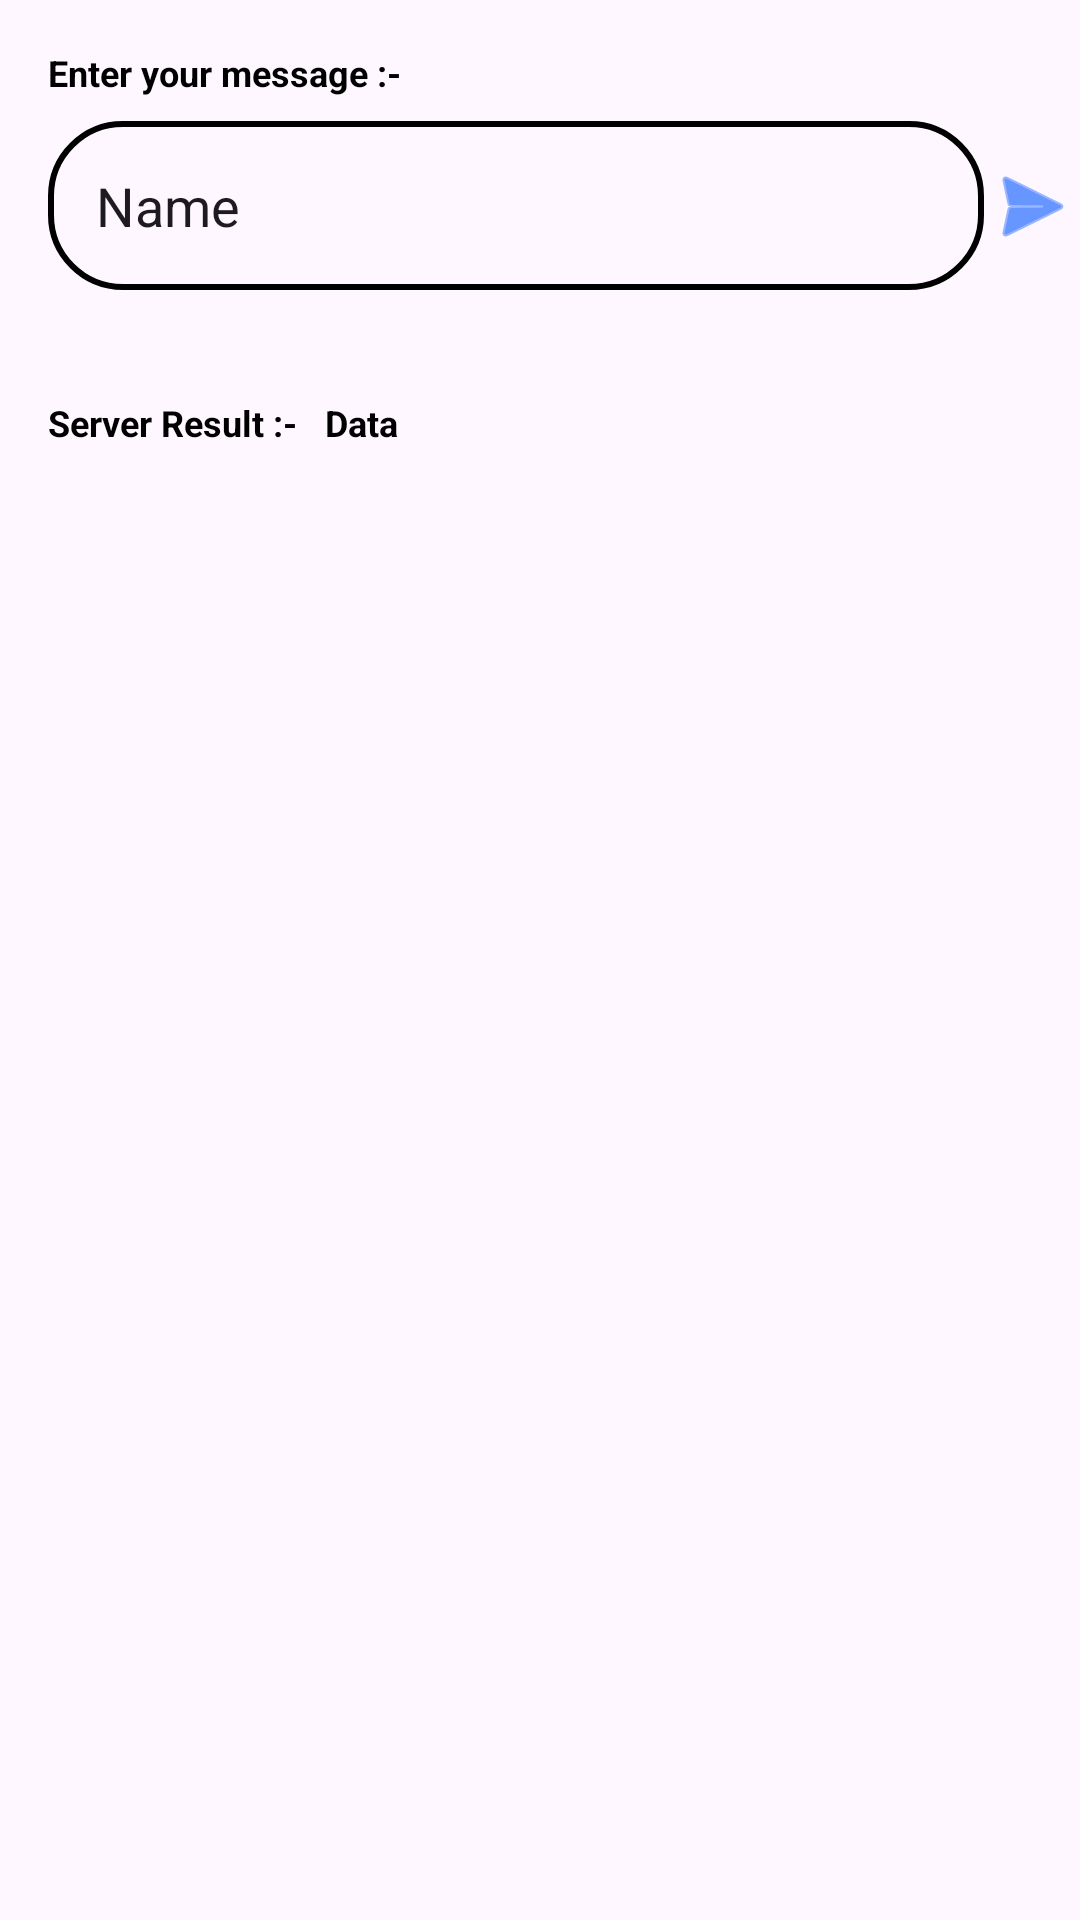

Where icons sit on this 1080×1920 app screen, as Rect(x1, y1, x2, y2):
send: Rect(1002, 176, 1064, 237)
